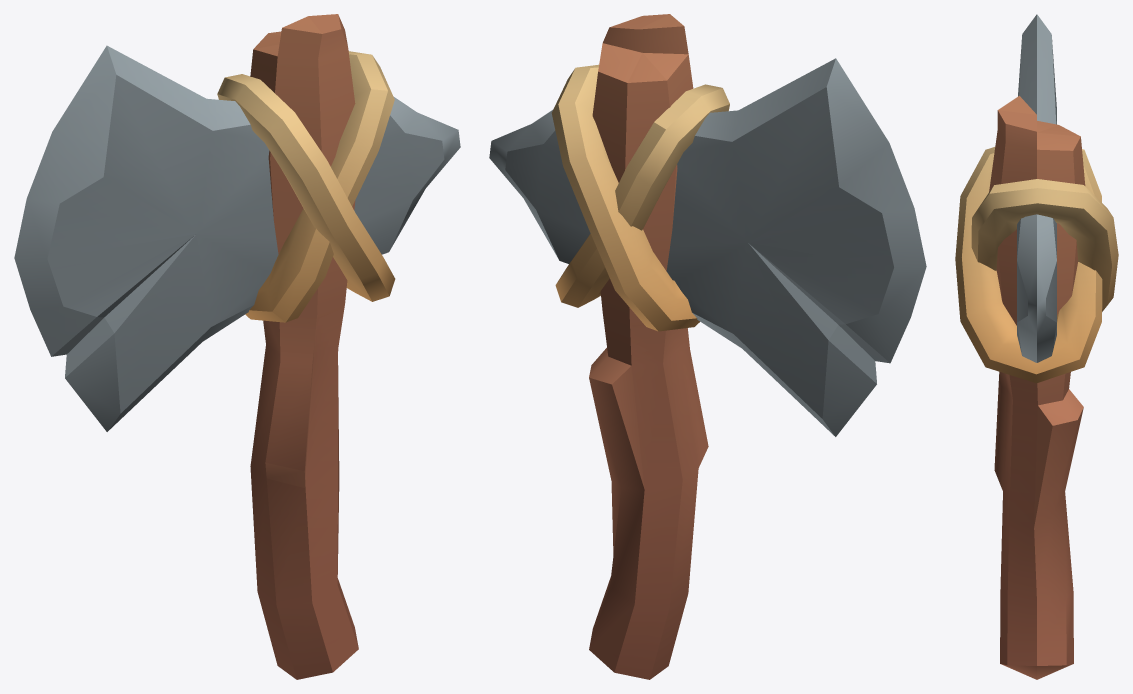
Rendered from Caveman_Axe.obj.
The picture shows the model from 3 angles, left to right: view 1: azimuth 30°, elevation 25°; view 2: azimuth 150°, elevation 25°; view 3: azimuth 270°, elevation 25°; orthographic projection. The views are drawn at different scales.
Parts seen in each view (by area): view 1: Caveman_Axe; view 2: Caveman_Axe; view 3: Caveman_Axe.
Part boxes in pixels (x1,y1,x2,y2): Caveman_Axe: (14, 14, 460, 679); Caveman_Axe: (489, 14, 926, 679); Caveman_Axe: (955, 14, 1118, 679).
Bounding box in the file's own units: 0.6699 × 0.9657 × 0.2487.
Materials: 1 (1 with a texture image).
